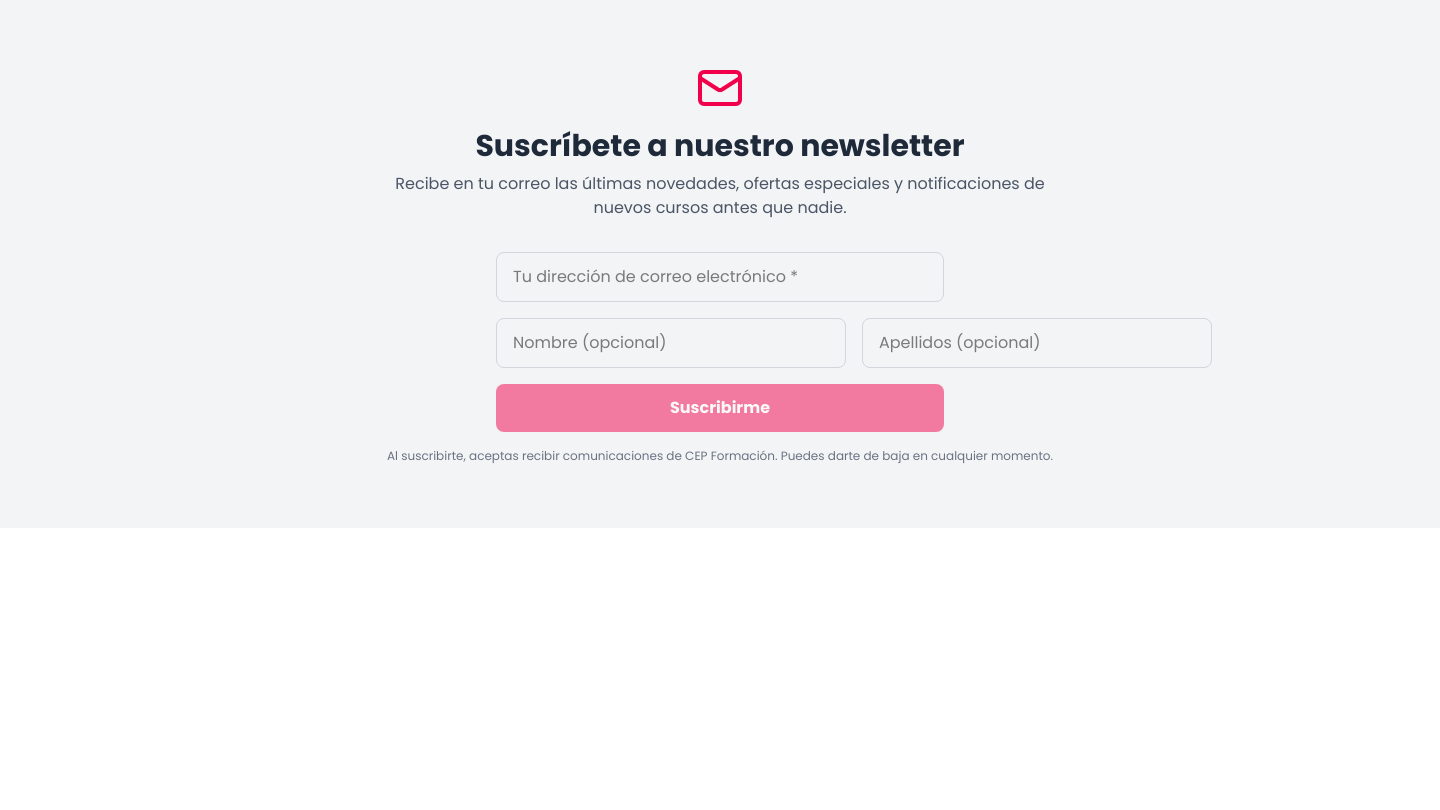
it: NewsletterSection › handles network error
Type "test@example.com" into the field with test id "email-input" at (720, 277), box [496,252,944,302]
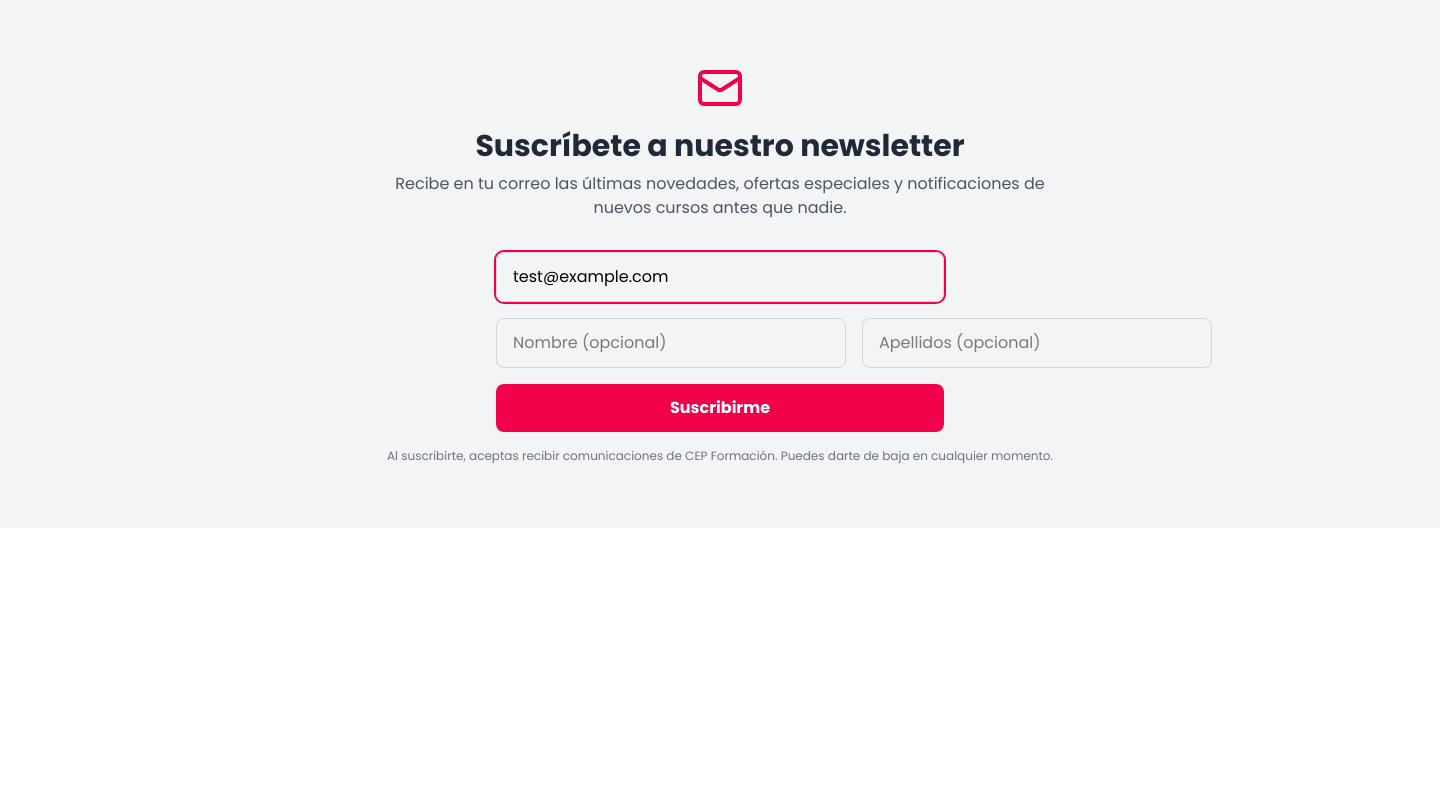
Click the button with test id "submit-button" at (720, 408), box [496,384,944,432]
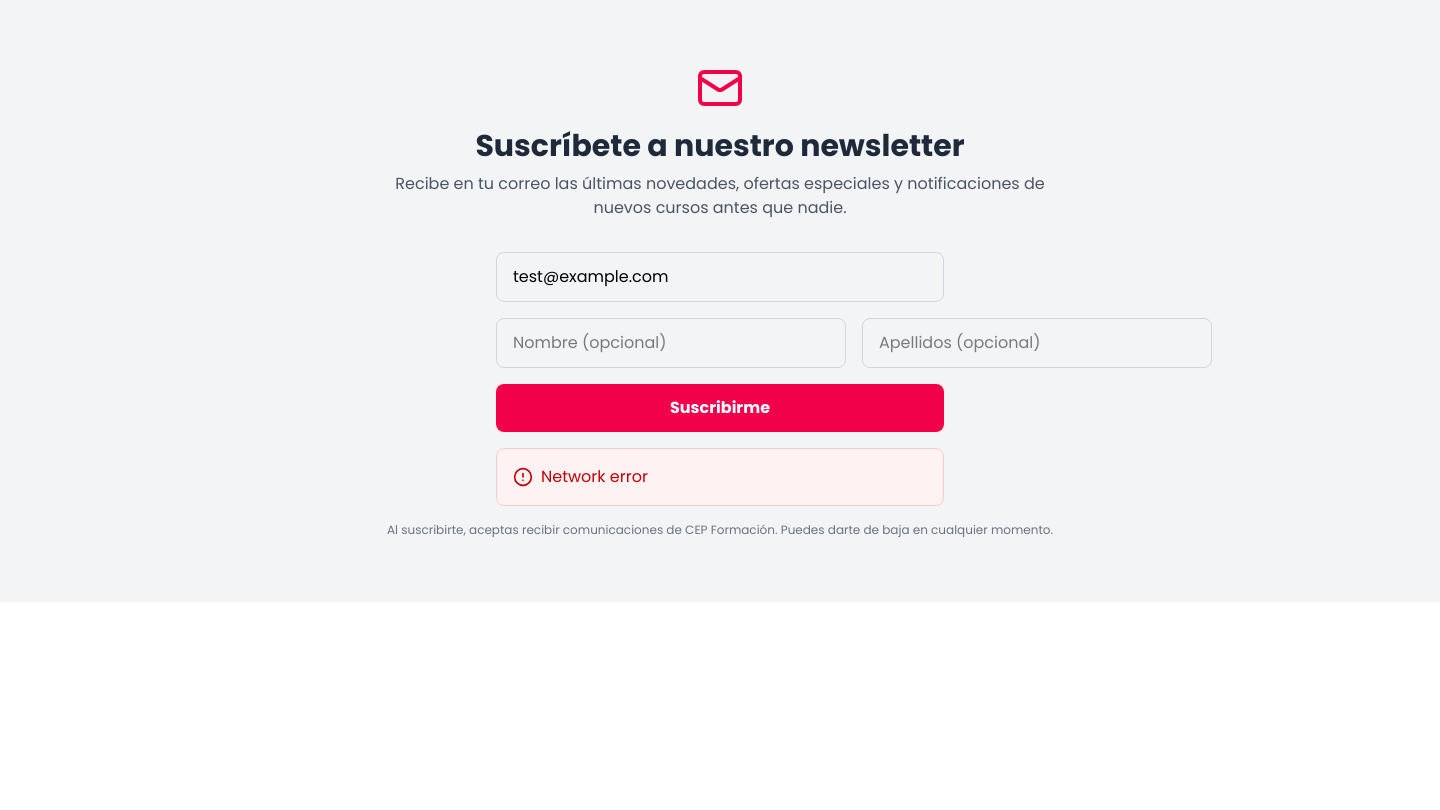
Now the text "Network error" is shown, box [541,465,648,489]
